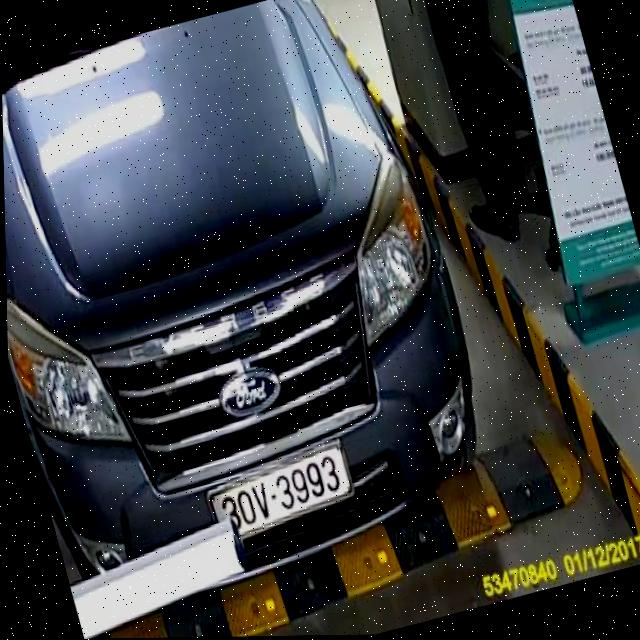car: (0, 0, 527, 640)
plate: (198, 438, 361, 546)
